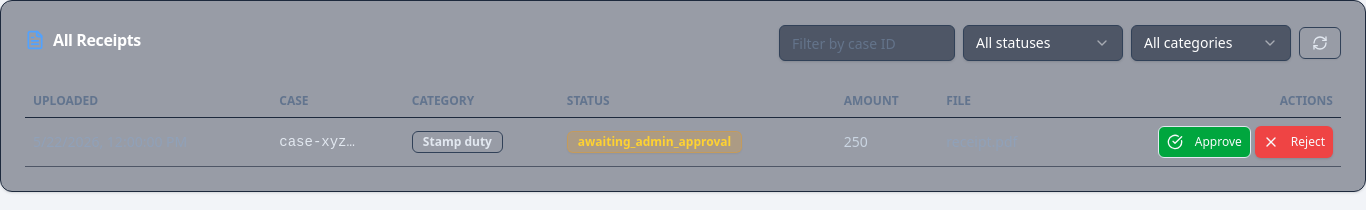
AllReceiptsTab — 409 already-reviewed refresh › rolls back the optimistic flip and re-fetches /api/deposits/all-receipts after a 409 from the stamp-duty approve endpoint
Click the button with test id "btn-all-receipts-approve-stamp_duty-42" at (1204, 142), box [1158,126,1251,158]
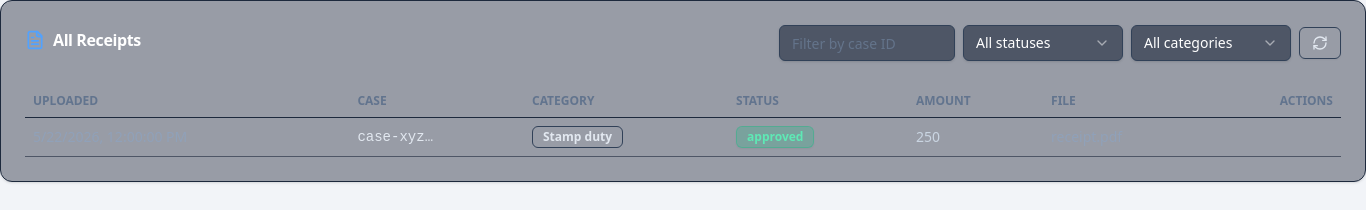
Now the button with test id "btn-all-receipts-approve-stamp_duty-42" is gone
